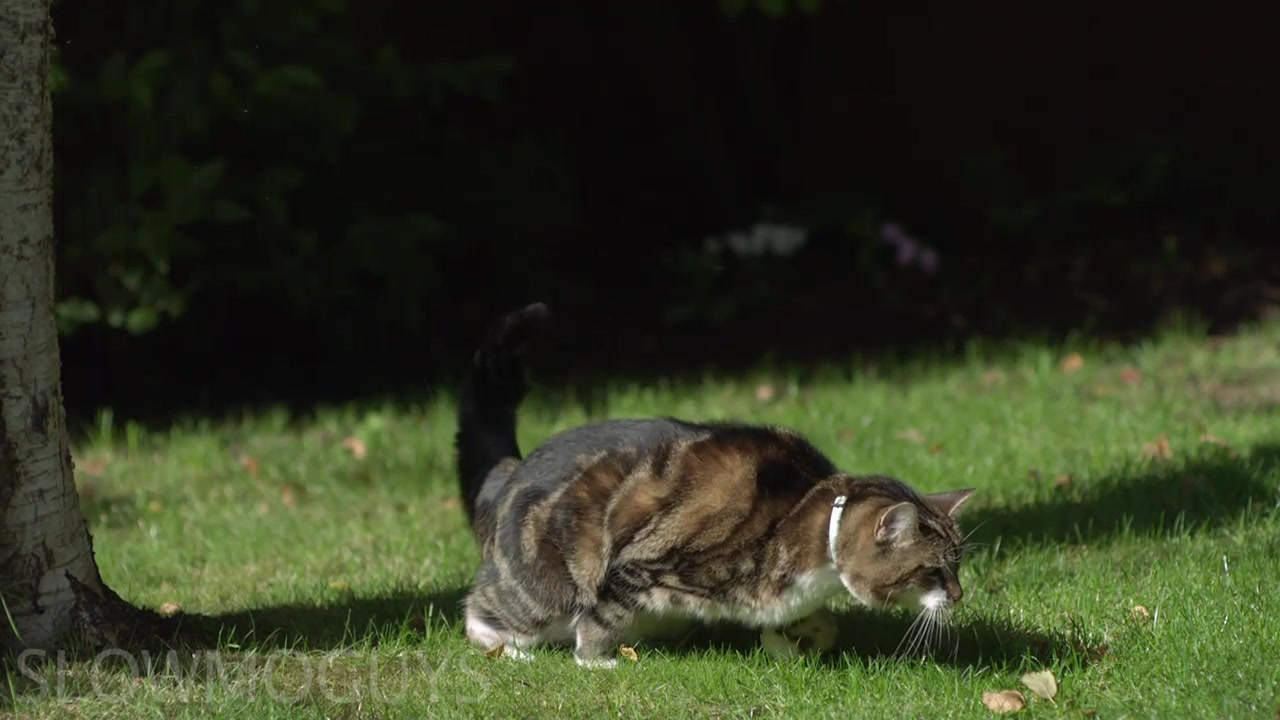cat: (447, 301, 972, 670)
